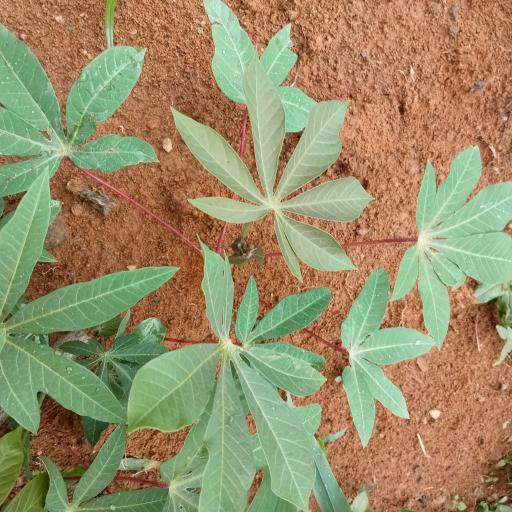Cassava_Mosaic: (131, 268, 317, 512), (172, 76, 368, 268), (0, 27, 152, 199), (402, 162, 512, 316), (341, 267, 421, 440)
